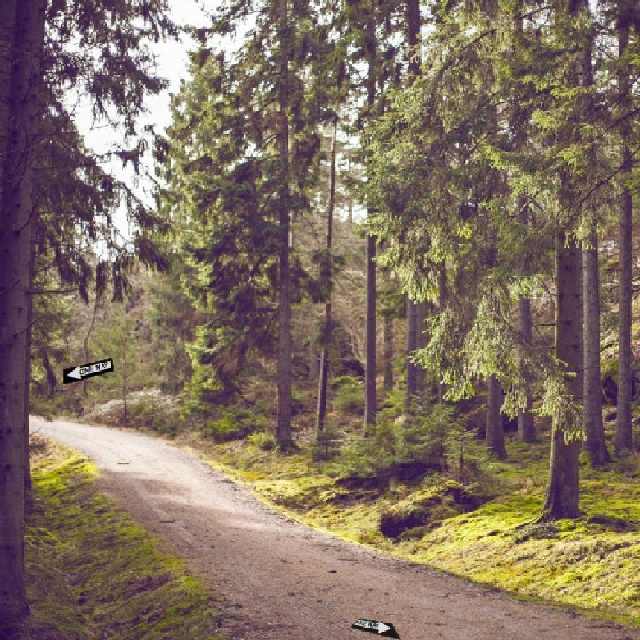ONE_WAY_ left: (61, 356, 113, 384)
ONE_WAY_ right: (348, 617, 400, 639)
